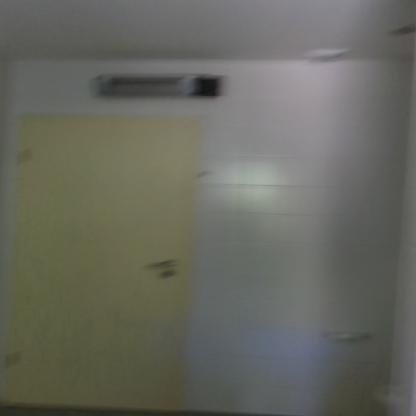door: (16, 121, 190, 406)
hinged: (6, 350, 22, 366), (21, 147, 30, 163)
lever: (149, 259, 176, 271)
